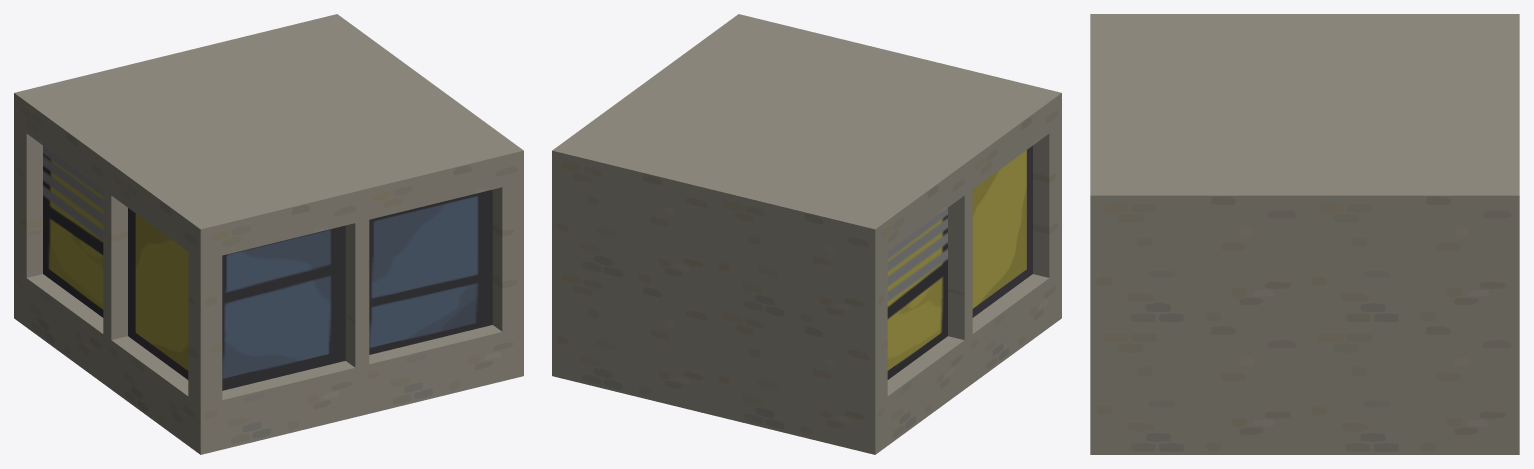
The model's file is Block_A04.fbx.
The picture shows the model from 3 angles, left to right: view 1: azimuth 30°, elevation 25°; view 2: azimuth 150°, elevation 25°; view 3: azimuth 270°, elevation 25°; orthographic projection. The views are drawn at different scales.
Visible parts, largest first — view 1: Block_A04; view 2: Block_A04; view 3: Block_A04.
Boxes of the visible parts, x1=… form: Block_A04: x1=14, y1=14, x2=523, y2=454; Block_A04: x1=552, y1=14, x2=1061, y2=454; Block_A04: x1=1090, y1=14, x2=1519, y2=454.
Size of the model in its own units: 600 by 400 by 600.
Materials: 1 (1 with a texture image).
